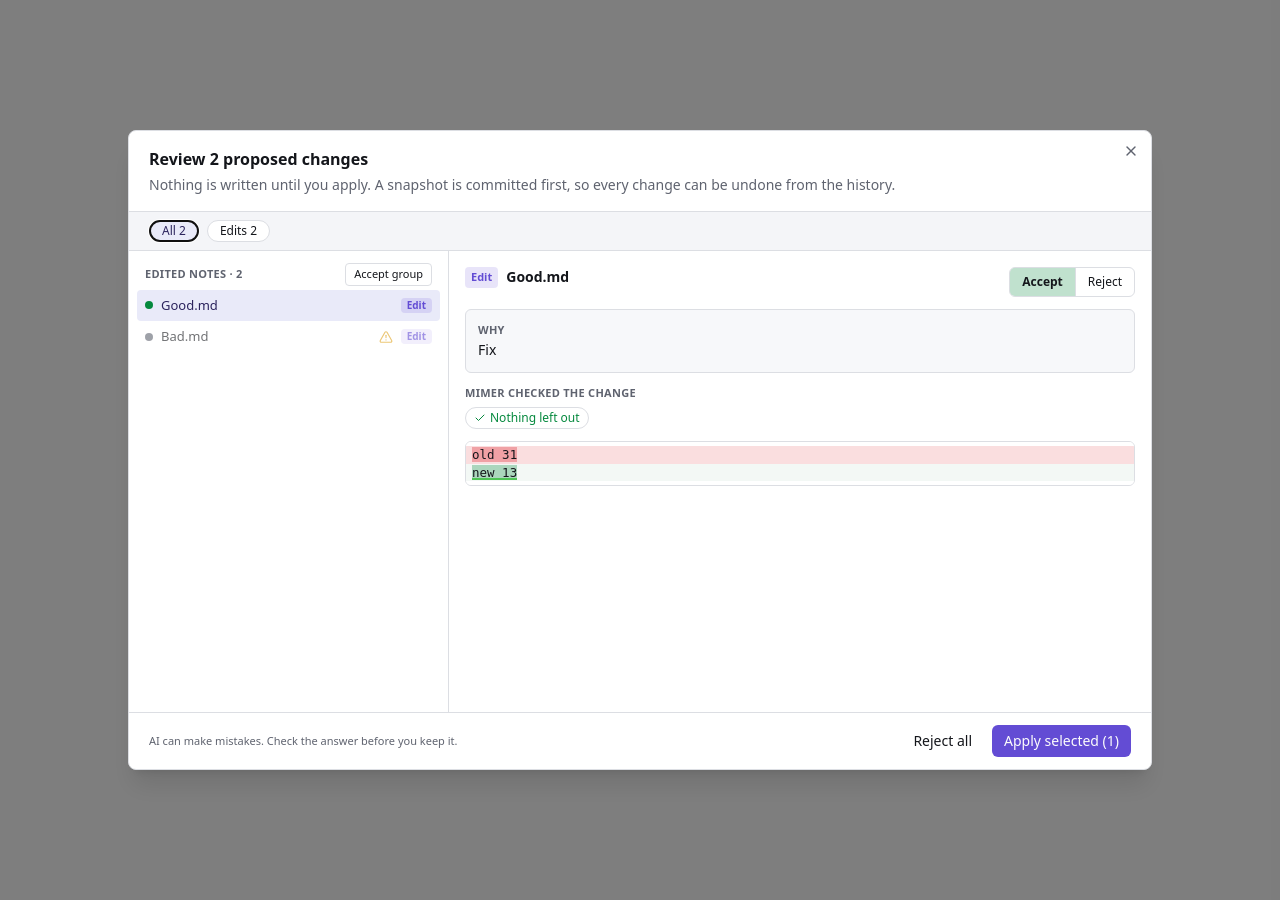
Scenario: Mimer's checks in the review › leaves a change that failed a check unselected and says why
The width and height of the screenshot is (1280, 900).
Expected: the icon named "Did not pass Mimer's checks" is shown, [379,330,393,344]
What coordinates should you click on to do the following:
click the button "Bad.md Edit"
I would click on:
 (185, 336)
Its box is [137,321,440,352].
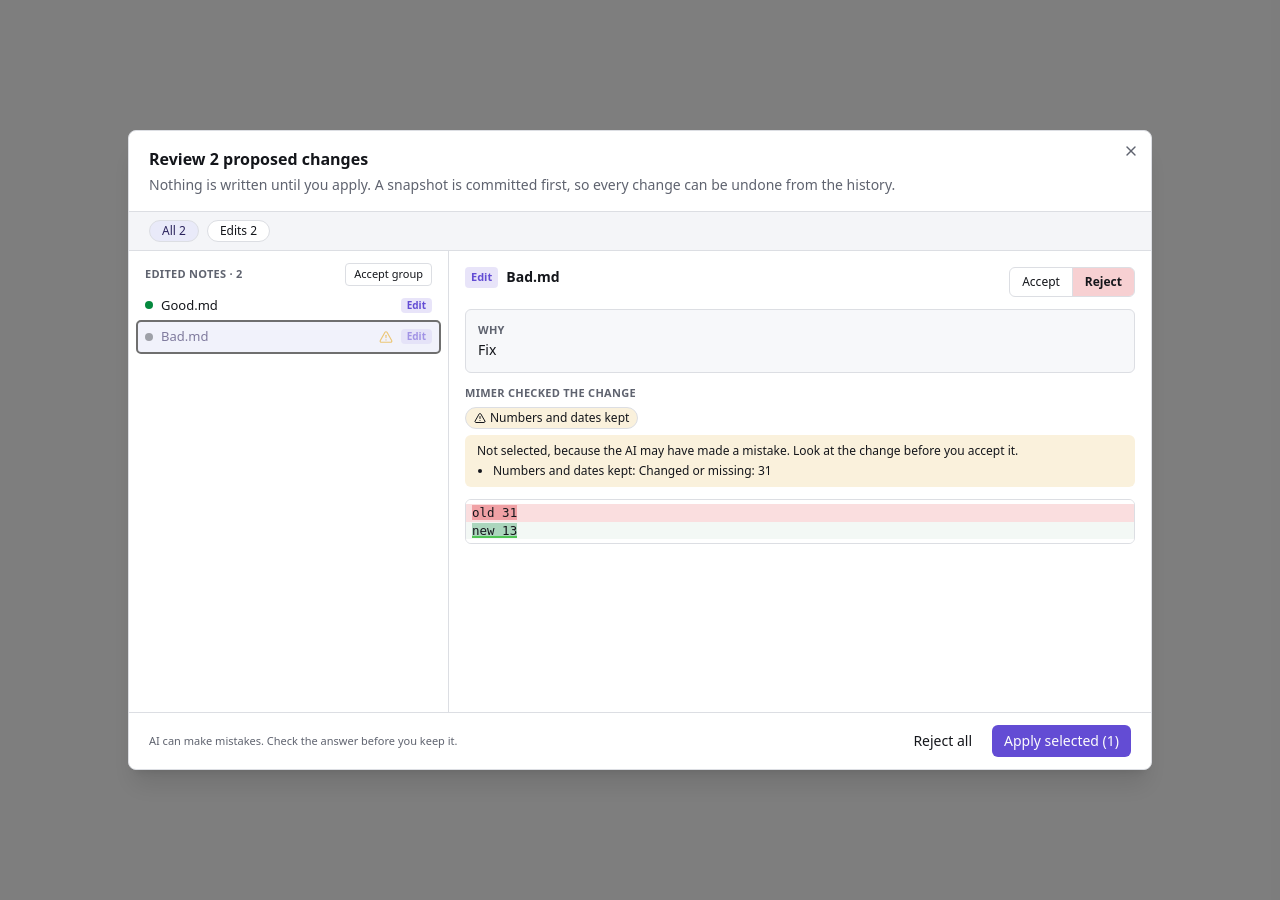
Now the list item "Numbers and dates kept: Changed or missing: 31" is shown, box [493,462,772,479]
Now the text "Not selected, because the AI may have made a mistake" is shown, box [477,442,1018,459]
